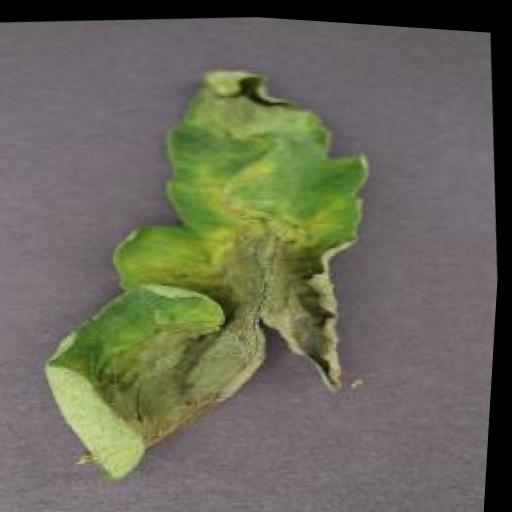Late Blight: (11, 44, 404, 498)
